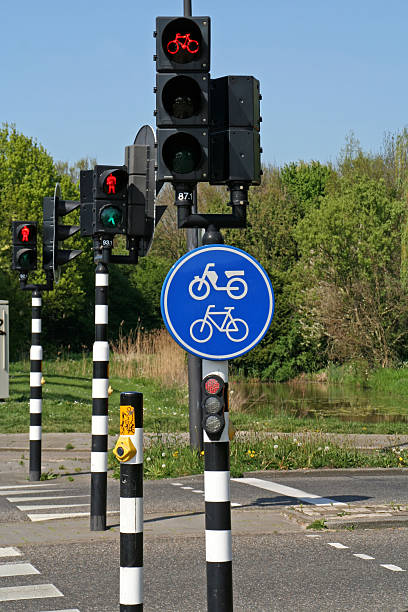bollard: (113, 389, 151, 612)
trafficlight: (152, 19, 213, 177), (96, 162, 128, 233), (12, 223, 37, 272)
